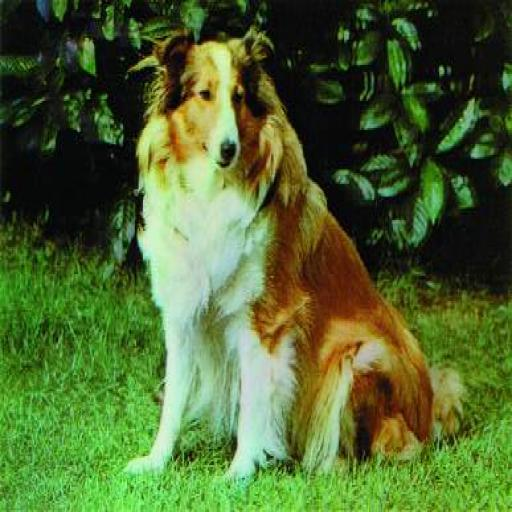dog_face: (153, 24, 274, 176)
